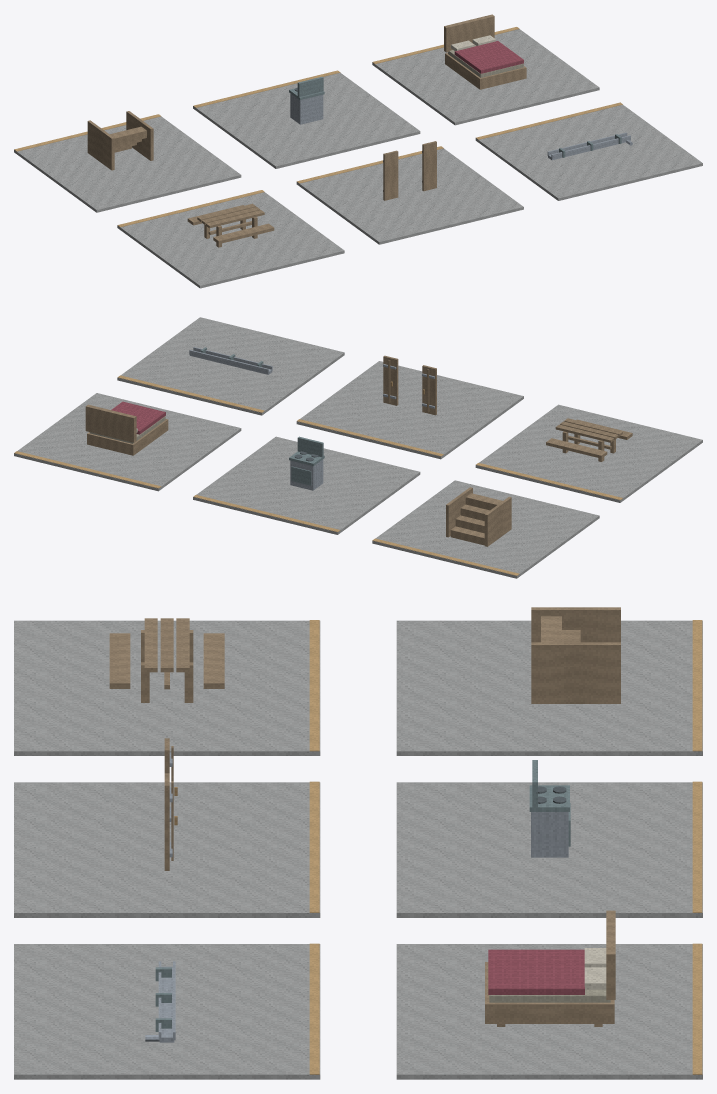
The model's file is level_blockout_kit_wld_16_p04.glb.
The picture shows the model from 3 angles, top to bottom: view 1: azimuth 30°, elevation 25°; view 2: azimuth 150°, elevation 25°; view 3: azimuth 270°, elevation 25°; orthographic projection. The views are drawn at different scales.
Visible parts, largest first — view 1: level_blockout_kit_wld_16_p04; view 2: level_blockout_kit_wld_16_p04; view 3: level_blockout_kit_wld_16_p04.
Boxes of the visible parts, <box> form: level_blockout_kit_wld_16_p04: <box>14,14,702,288</box>; level_blockout_kit_wld_16_p04: <box>14,317,702,578</box>; level_blockout_kit_wld_16_p04: <box>14,607,702,1079</box>.
Bounding box in the file's own units: 19.65 × 1.83 × 12.6.
Materials: 10 (10 with a texture image).
